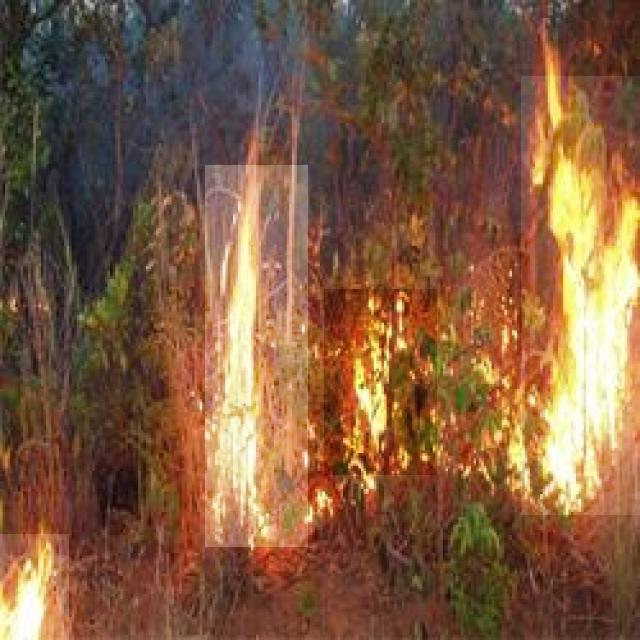Fire: (521, 76, 640, 515), (205, 165, 308, 548), (324, 289, 437, 475), (0, 534, 69, 640)
